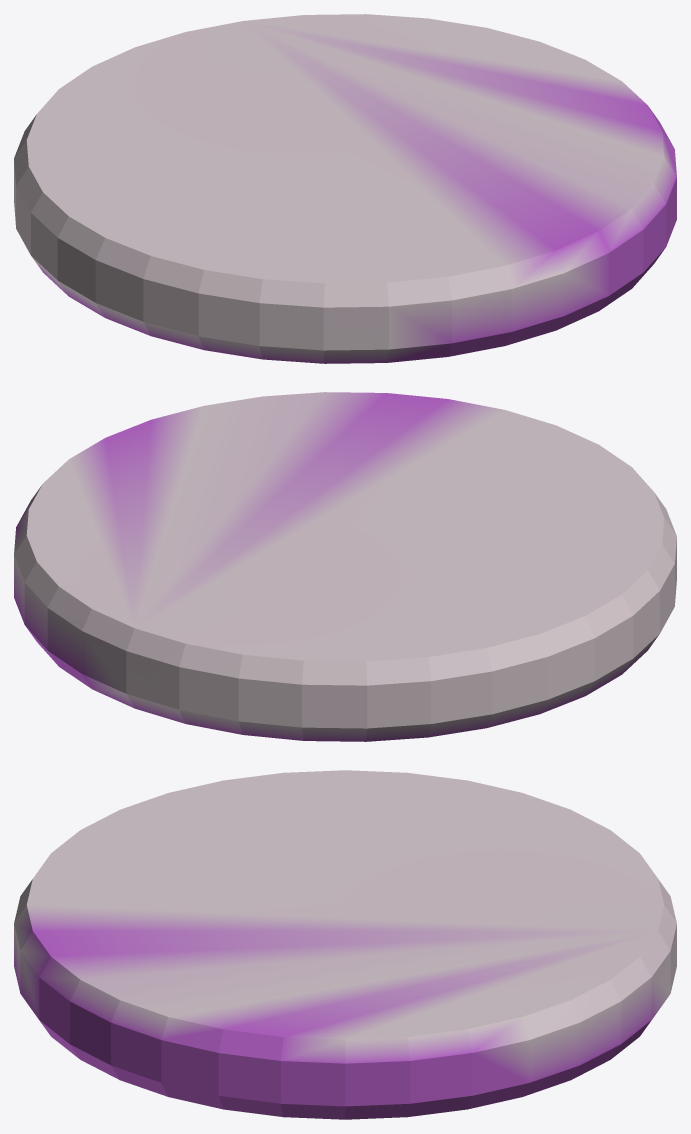
Rendered from pink_middle.fbx.
3 renders of one model, top to bottom at view 1: azimuth 30°, elevation 25°; view 2: azimuth 150°, elevation 25°; view 3: azimuth 270°, elevation 25°, orthographic.
Parts seen in each view (by area): view 1: middle blade; view 2: middle blade; view 3: middle blade.
Boxes of the visible parts, bbox=[...] form: middle blade: bbox=[14, 14, 676, 363]; middle blade: bbox=[14, 392, 676, 741]; middle blade: bbox=[14, 770, 676, 1119].
Size of the model in its own units: 600 by 80 by 600.
